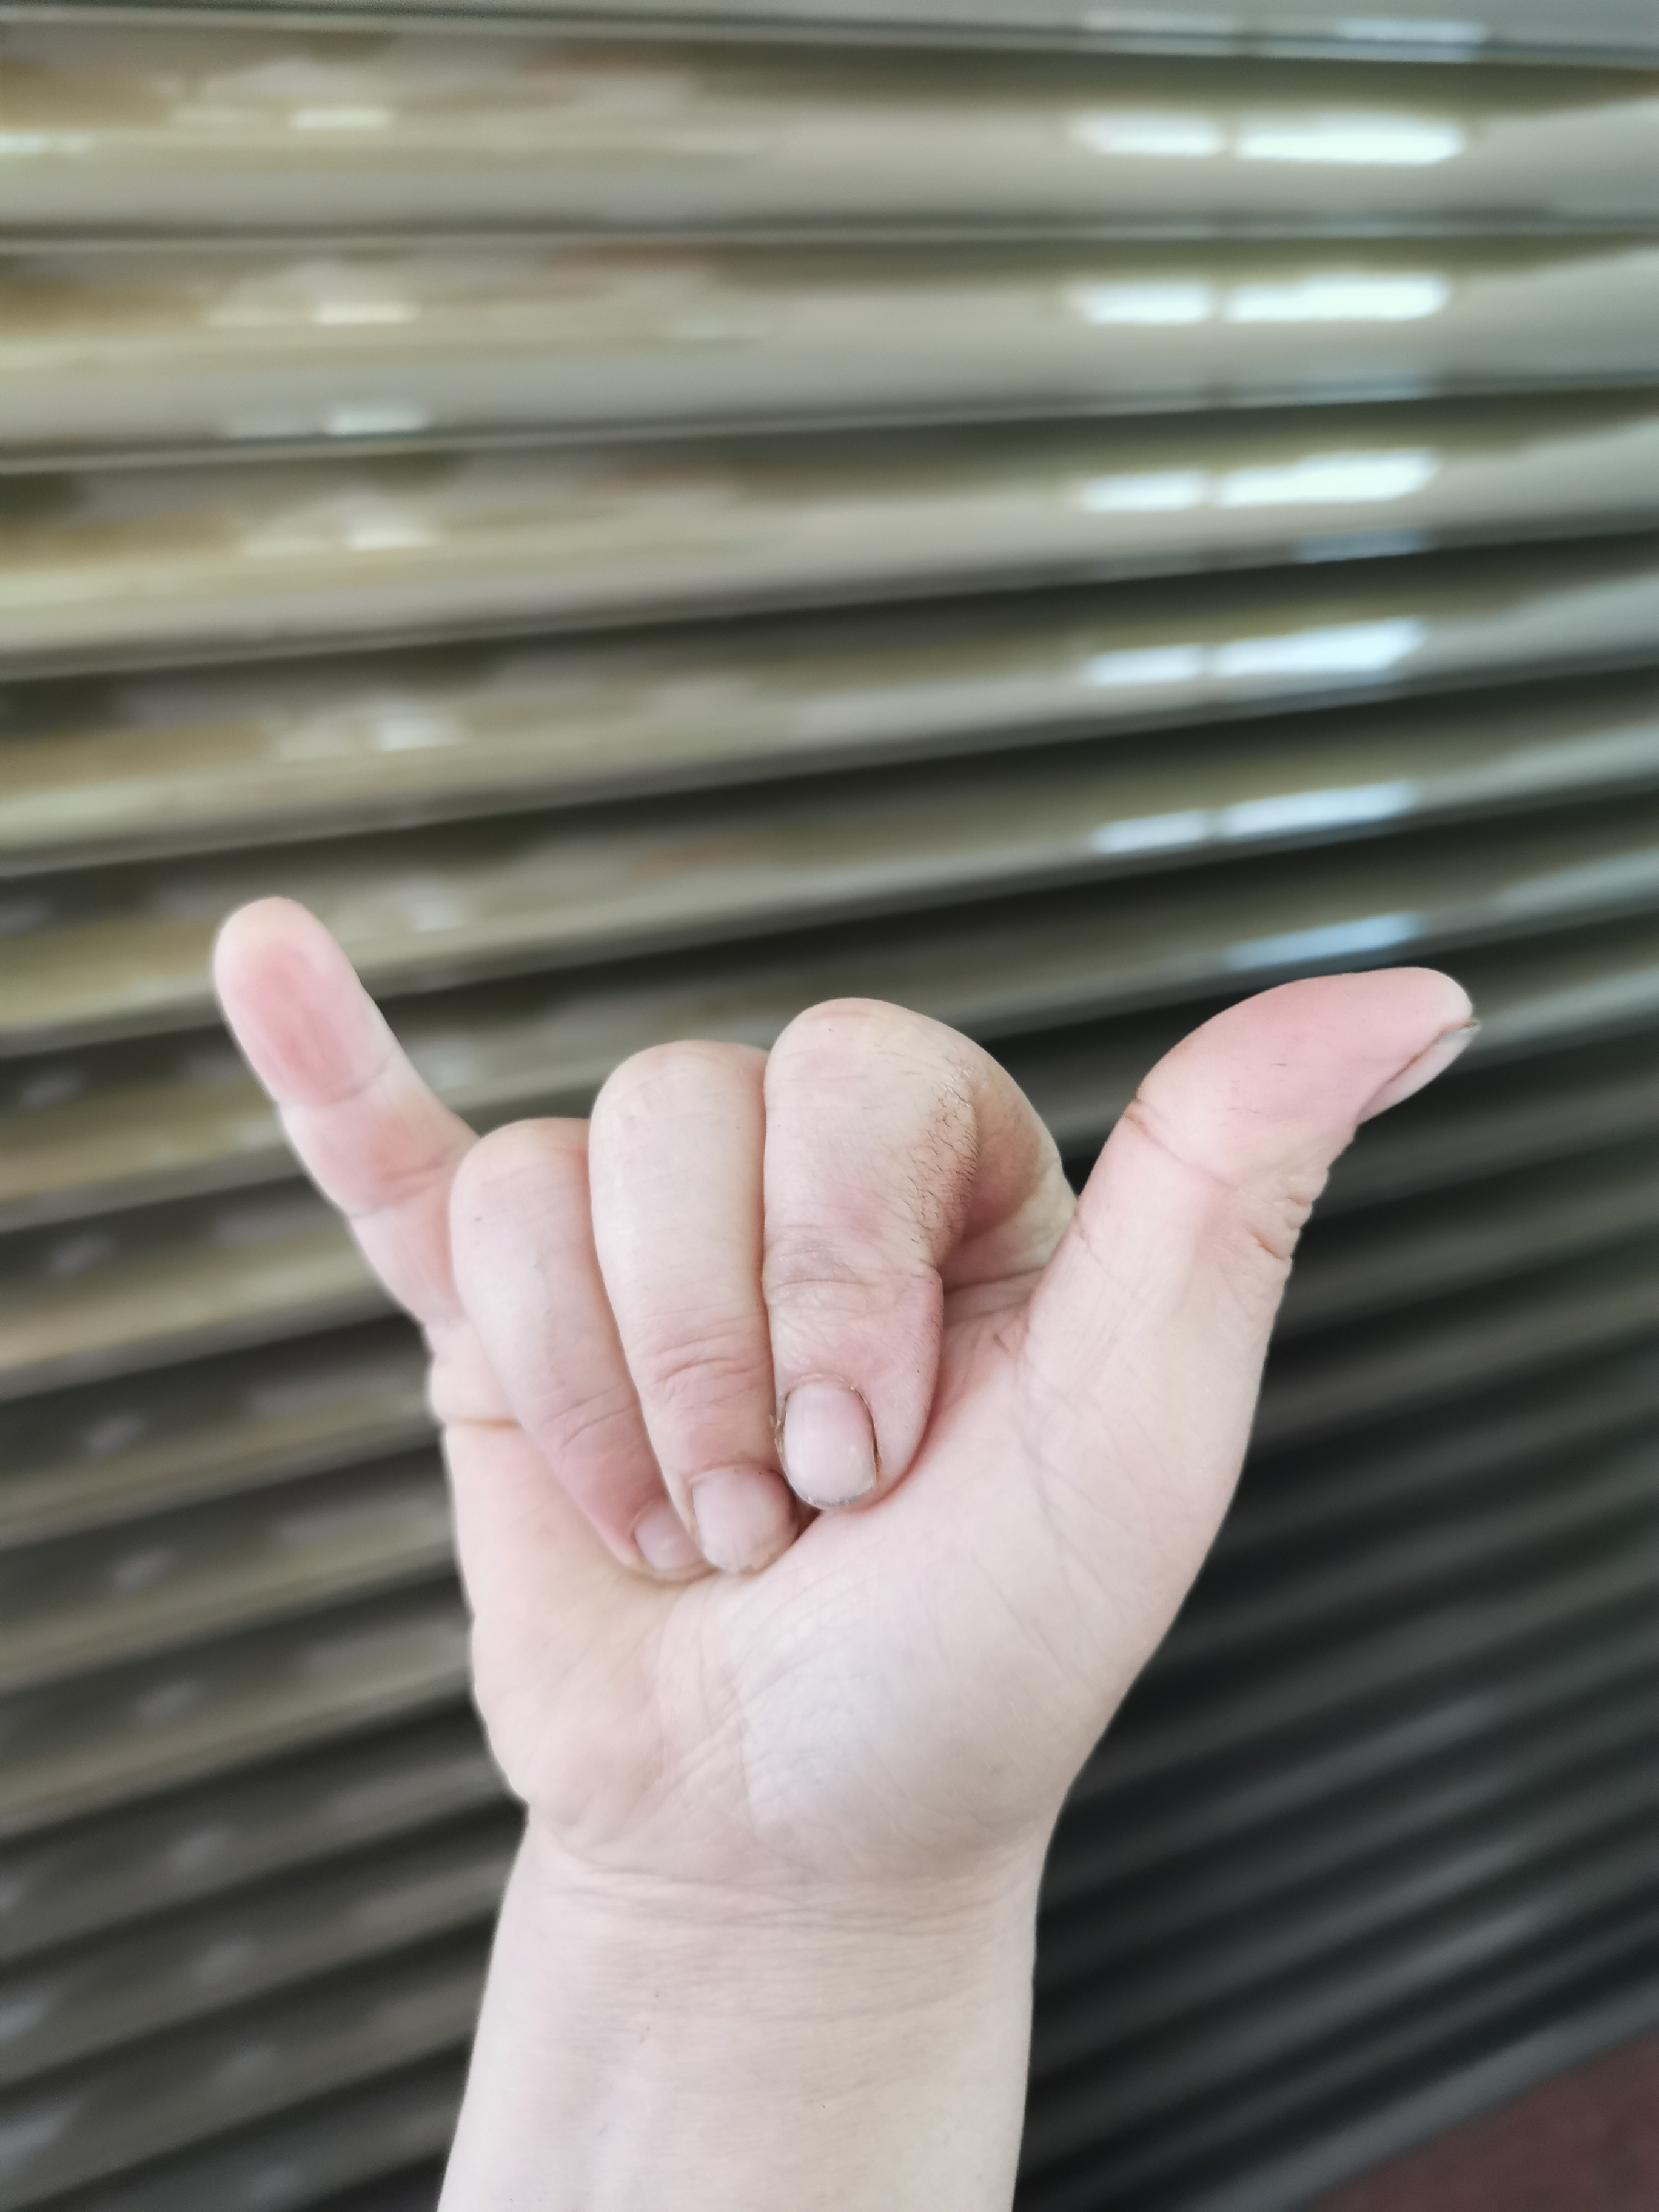clockwise: (209, 873, 1495, 1858)
